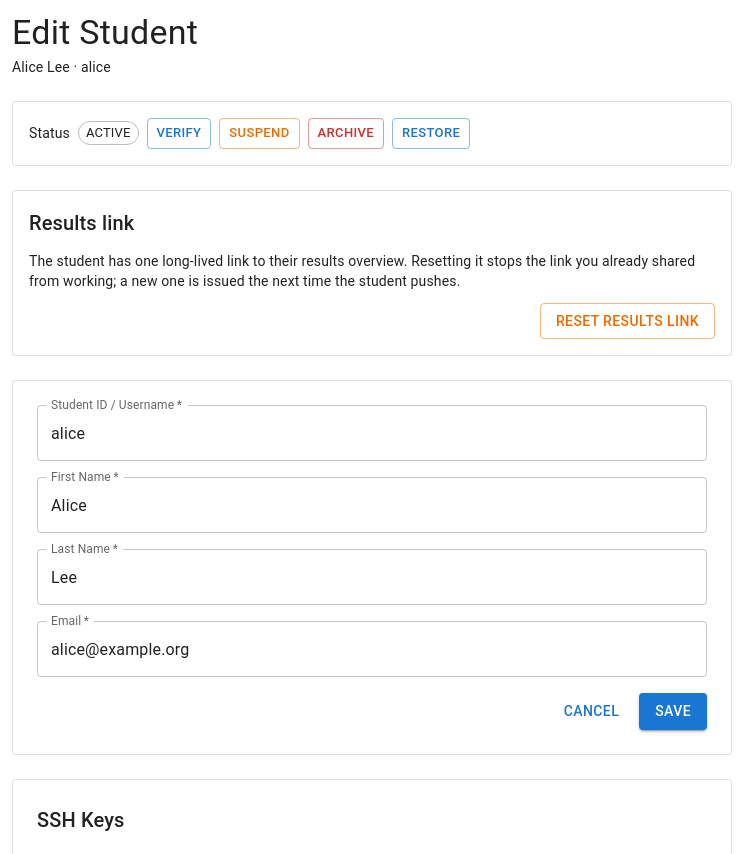
Test: resets the results-overview link after confirmation
Expected: the heading "Edit Student" is shown, [12,12,198,52]
Step 1. Click the button "Reset results link" → (628, 321), box [540,303,715,339]
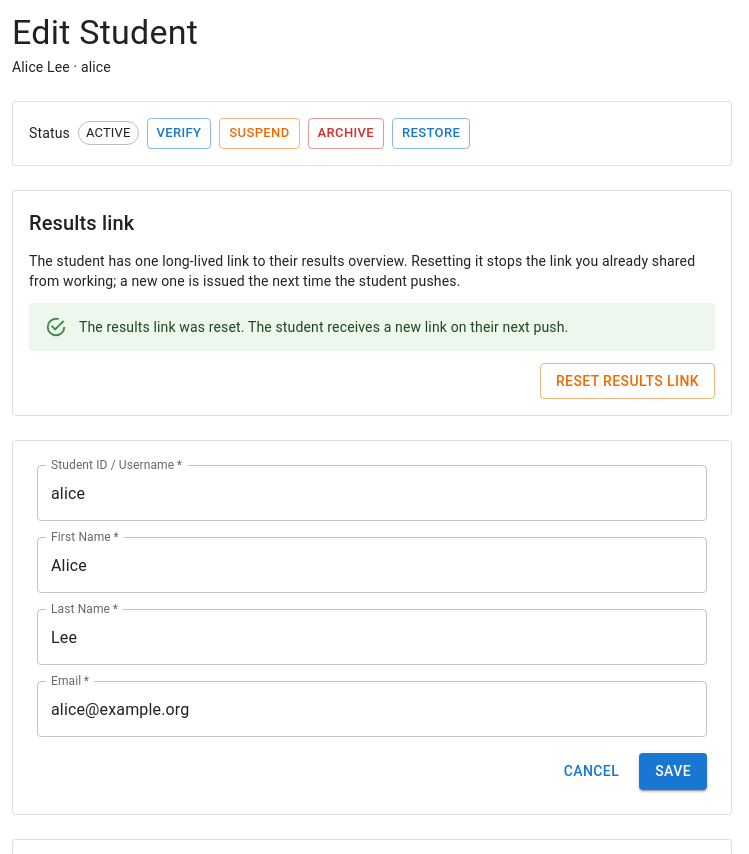
Now the text "results link was reset" is shown, box [79,319,568,335]
